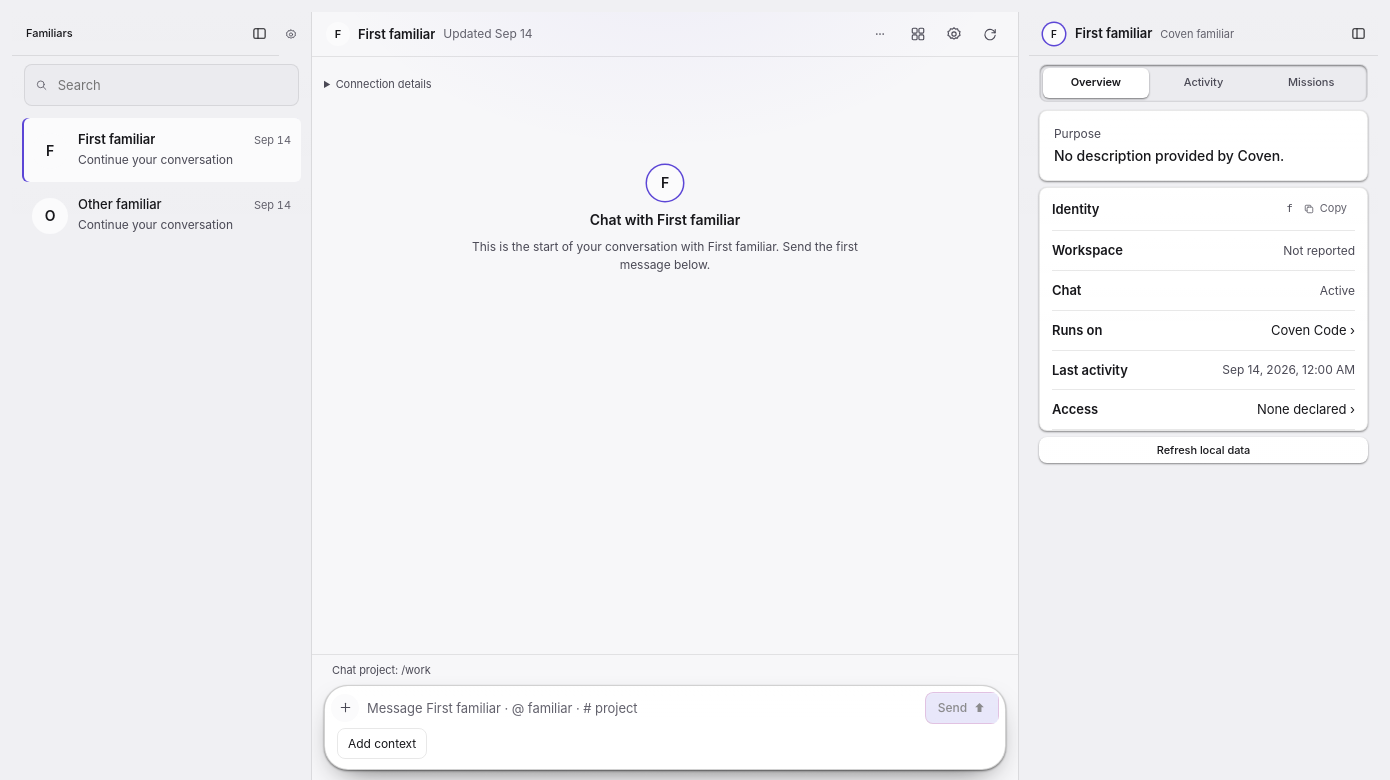
canonical familiar controller › does not clear a newly retyped identical message when the previous send finishes
Step 1. Type "same message" into the text box → [642, 708], box [363,692,921,724]
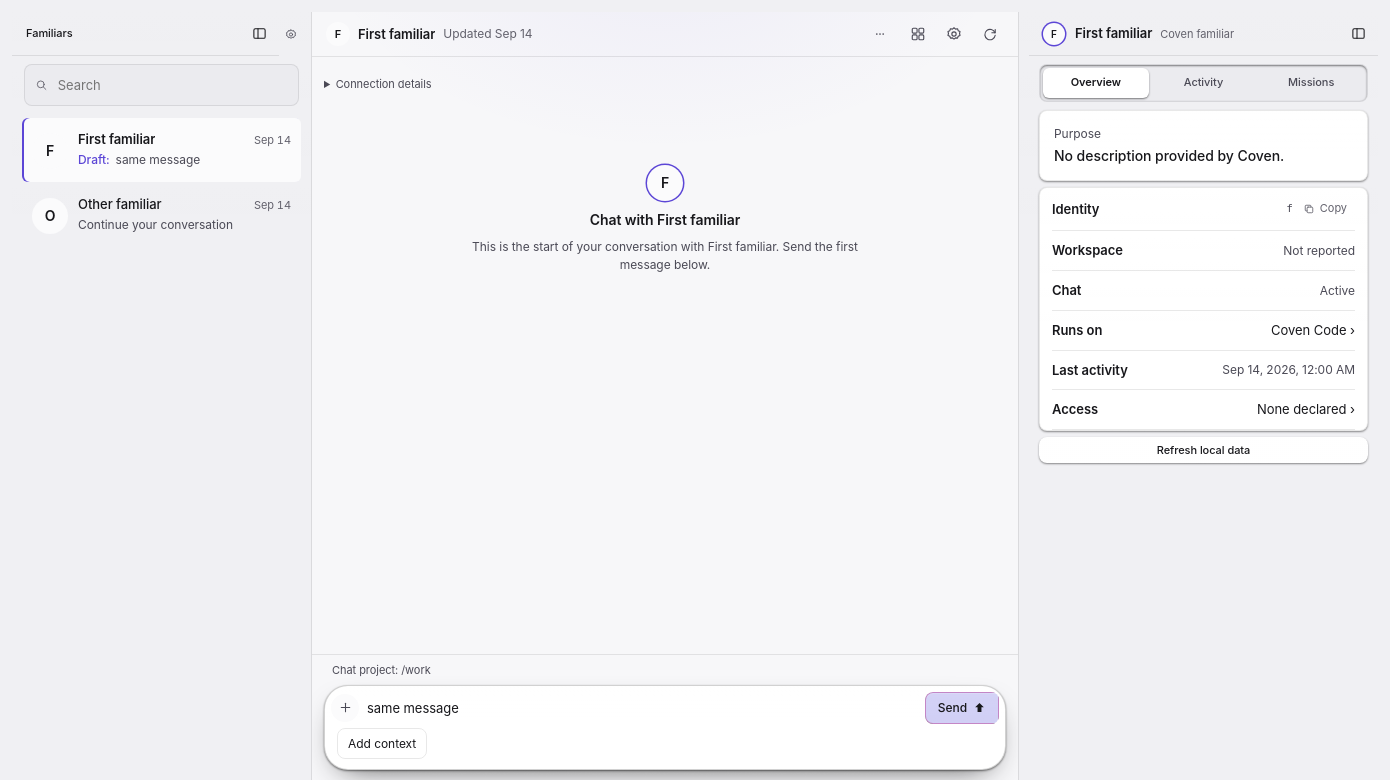
Step 2. Click the button "Send" → [962, 708], box [925,692,999,724]
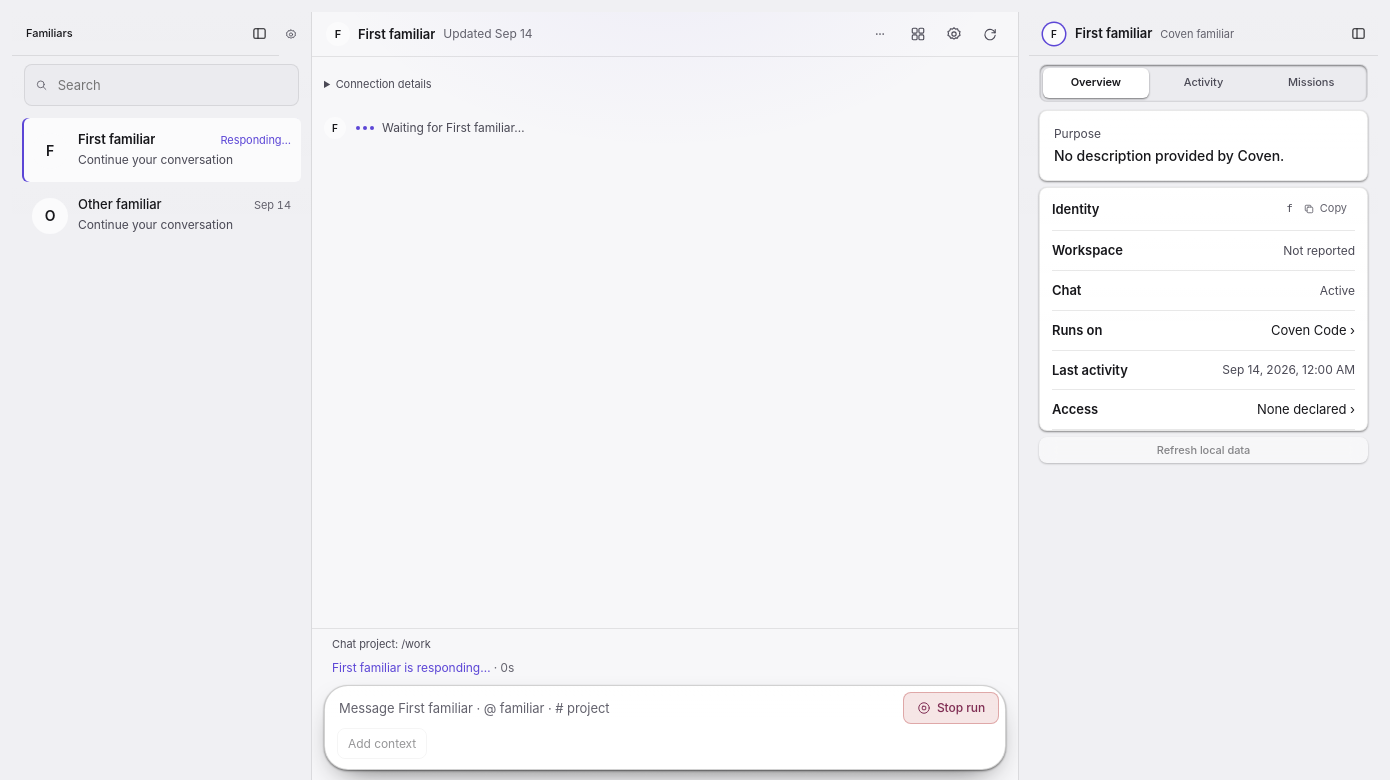
Result: the text box is empty
Step 3. Type "same message" into the text box → [617, 708], box [335,692,899,724]
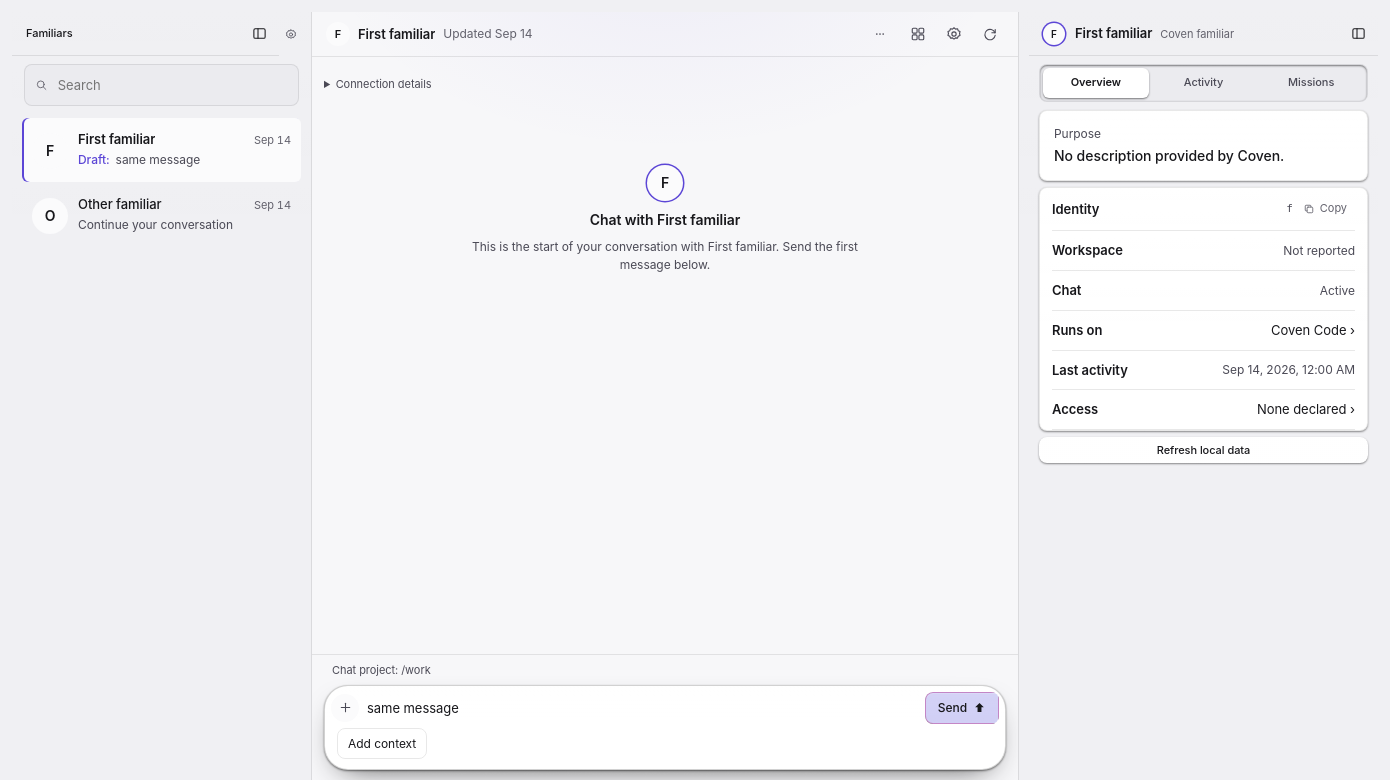
Result: the button "Stop" is gone
